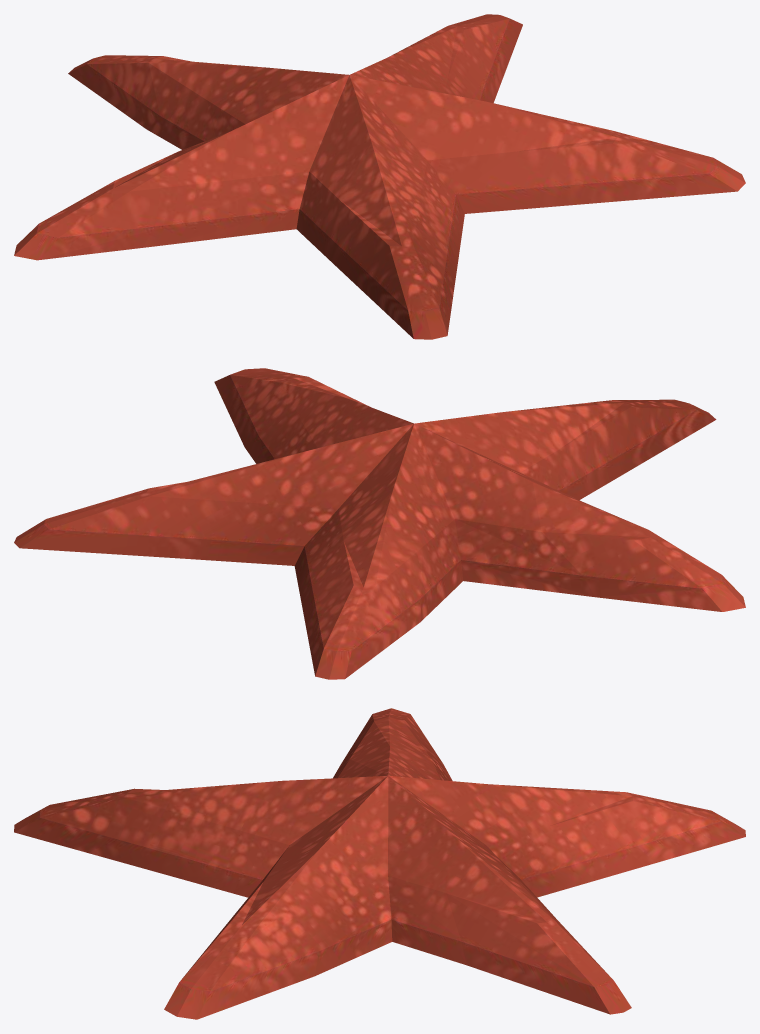
Rendered from starfish.glb.
3 views of the same model, one above another, from view 1: azimuth 30°, elevation 25°; view 2: azimuth 150°, elevation 25°; view 3: azimuth 270°, elevation 25° (orthographic).
Visible parts, largest first — view 1: Node; view 2: Node; view 3: Node.
Part boxes in pixels (<box>): Node: <box>14,14,745,339</box>; Node: <box>14,368,745,679</box>; Node: <box>14,708,745,1019</box>.
Size of the model in its own units: 0.9864 by 0.1515 by 1.
1 material, 1 textured.
